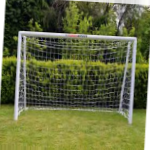goals: (13, 27, 138, 127)
